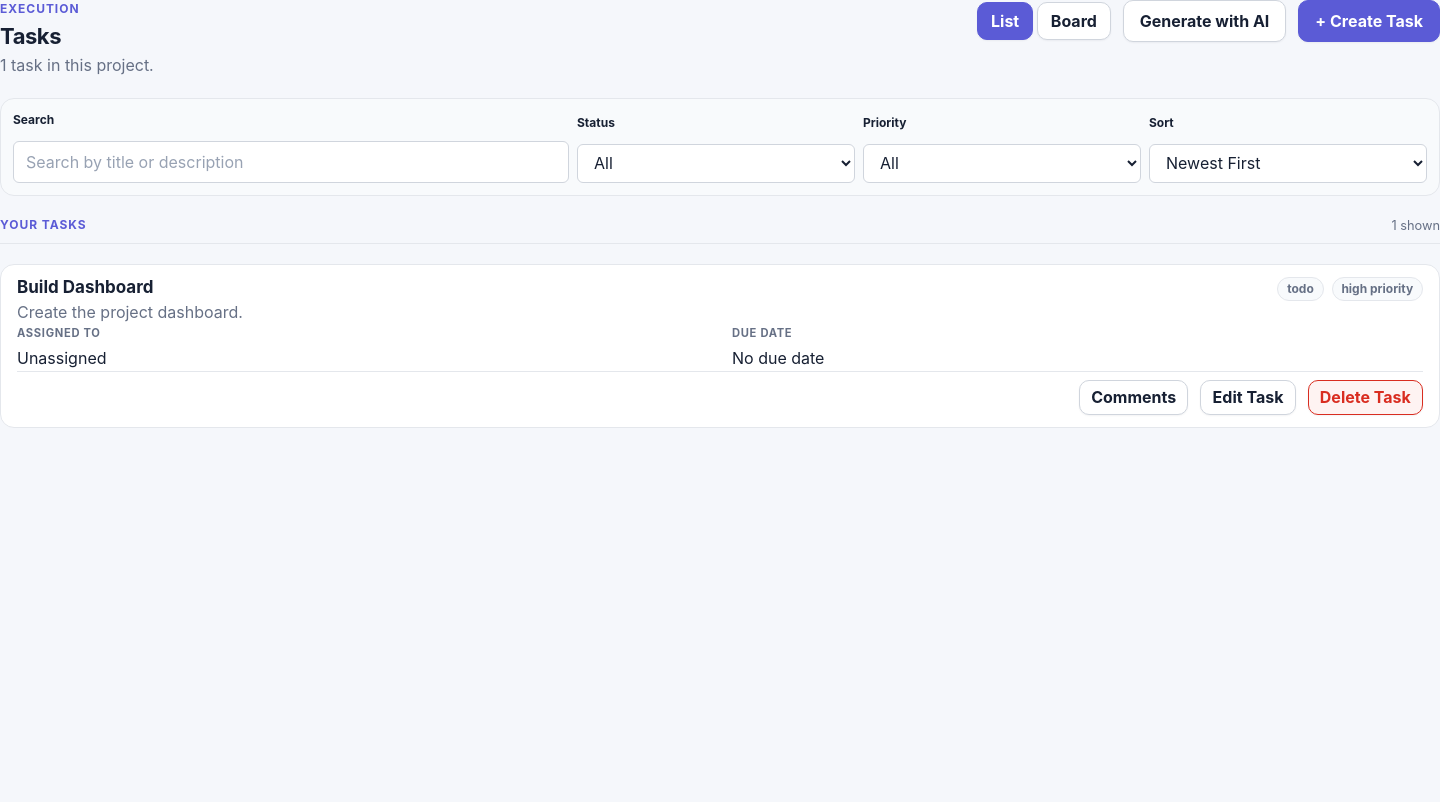
task comments read and create UI › lazy-loads and safely renders a task discussion from List view
Click the button with aria-label "View comments for Build Dashboard". click: [1134, 397]
box: [1079, 380, 1188, 414]
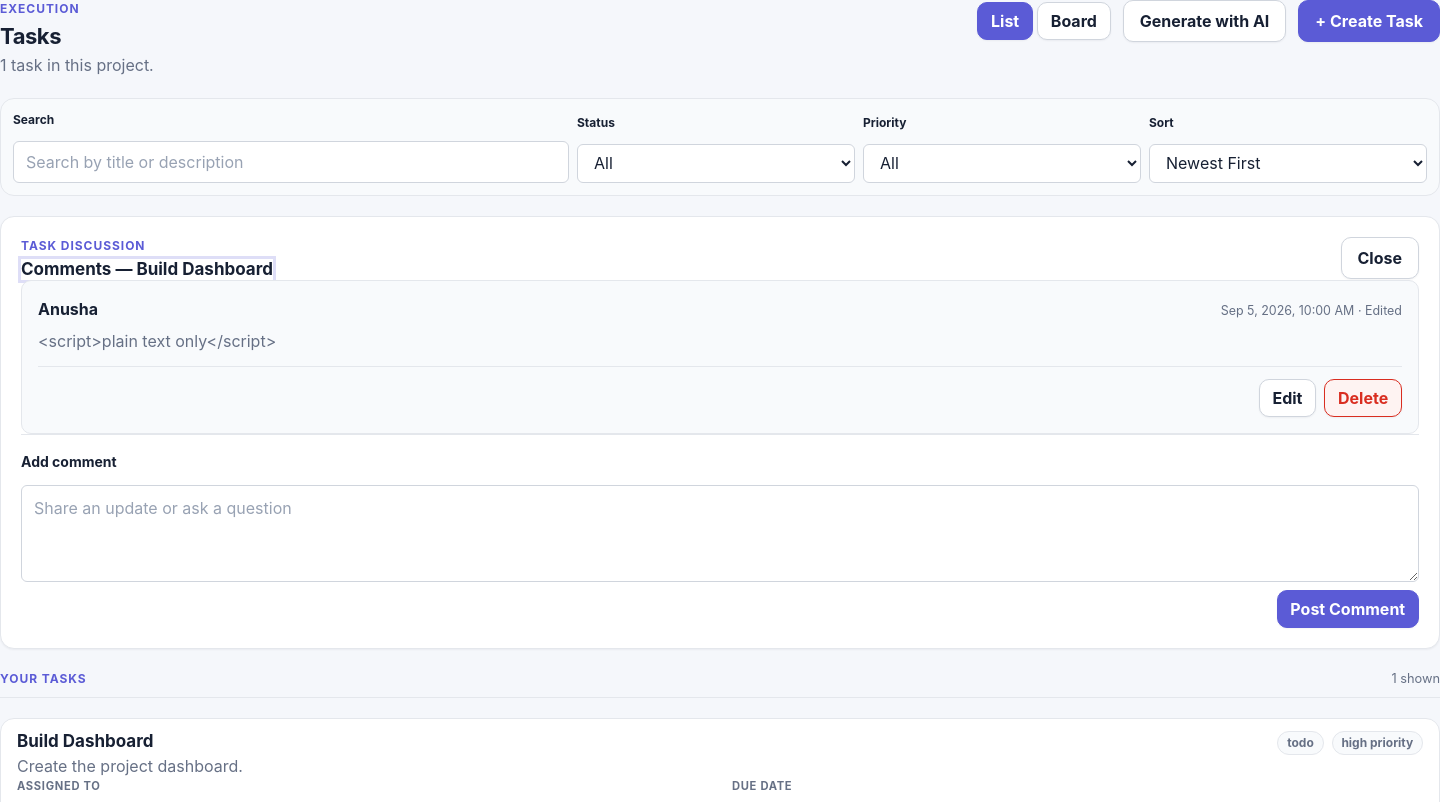
Now the text "Anusha" is shown, box [38, 296, 98, 321]
Now the text "<script>plain text only</script>" is shown, box [38, 331, 276, 351]
Now the text "Sep 5, 2026, 10:00 AM · Edited" is shown, box [1221, 300, 1402, 320]
